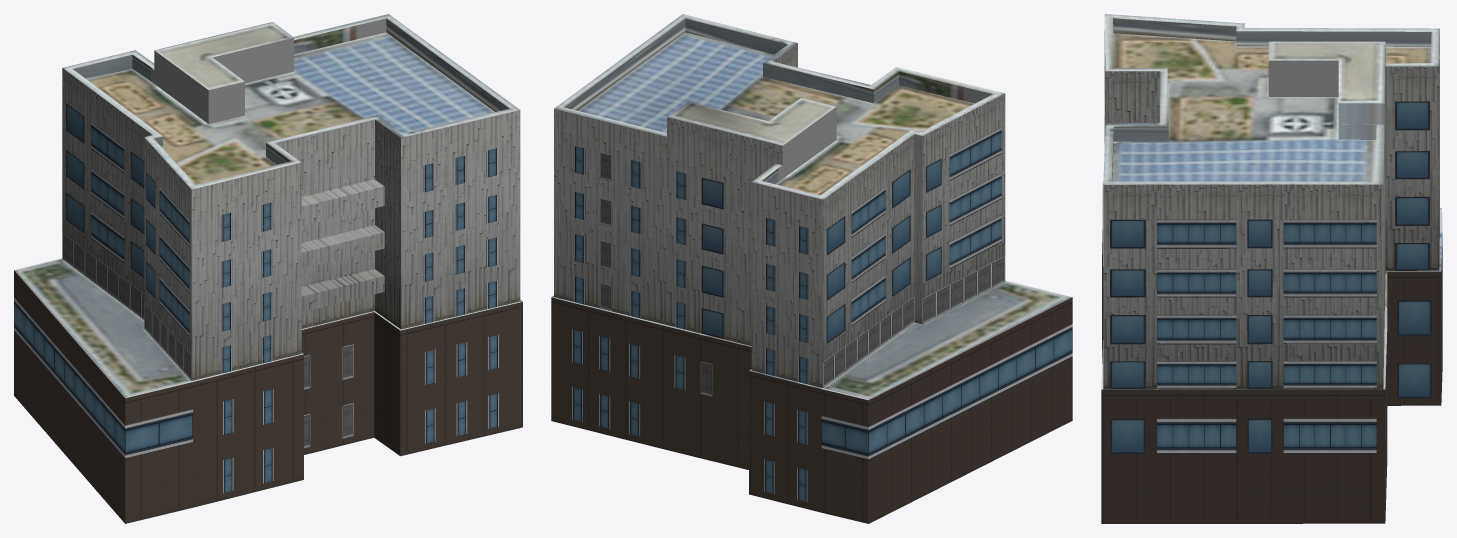
3 renders of one model, left to right at view 1: azimuth 30°, elevation 25°; view 2: azimuth 150°, elevation 25°; view 3: azimuth 270°, elevation 25°, orthographic. The views are drawn at different scales.
Visible parts, largest first — view 1: MainBuilding; view 2: MainBuilding; view 3: MainBuilding.
Boxes of the visible parts, bbox=[...] form: MainBuilding: bbox=[14, 14, 522, 523]; MainBuilding: bbox=[551, 14, 1072, 523]; MainBuilding: bbox=[1101, 14, 1442, 523].
Size of the model in its own units: 3.54 by 2.87 by 2.47.
Materials: 1 (1 with a texture image).
